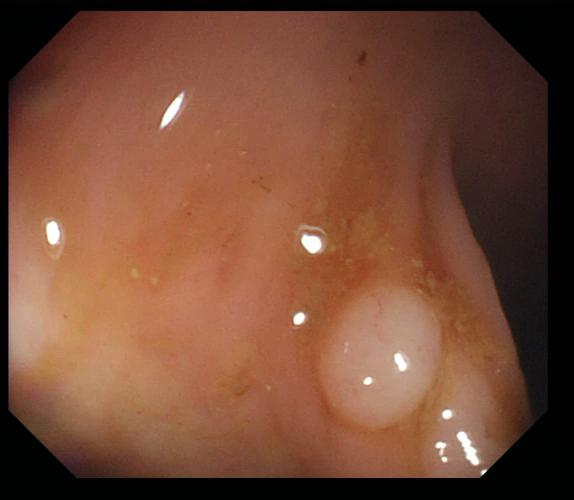polyp: (313, 277, 448, 435), (423, 350, 505, 479)
